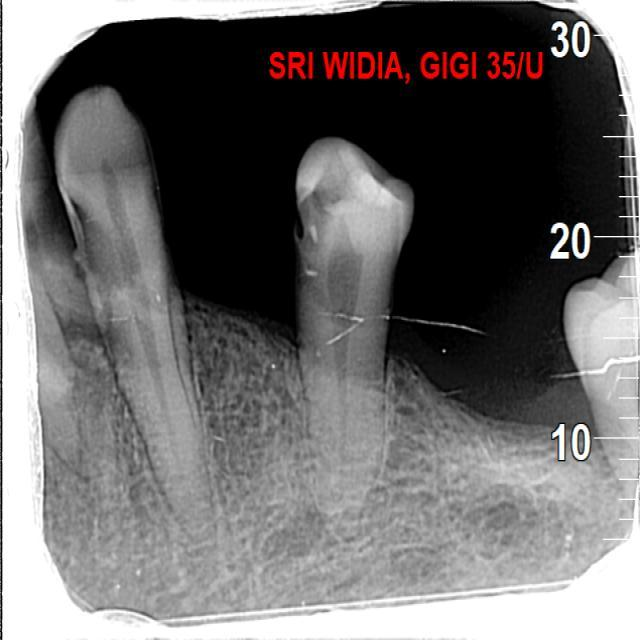individual-tooth-8tto: (59, 79, 218, 549), (295, 132, 418, 546)
